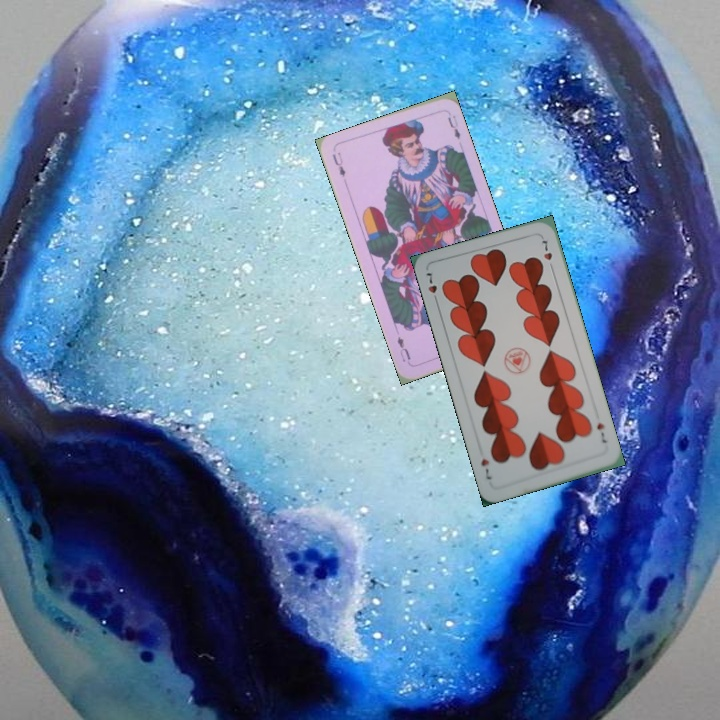EU: (328, 148, 348, 179)
H7: (422, 268, 441, 307), (593, 419, 609, 446)
